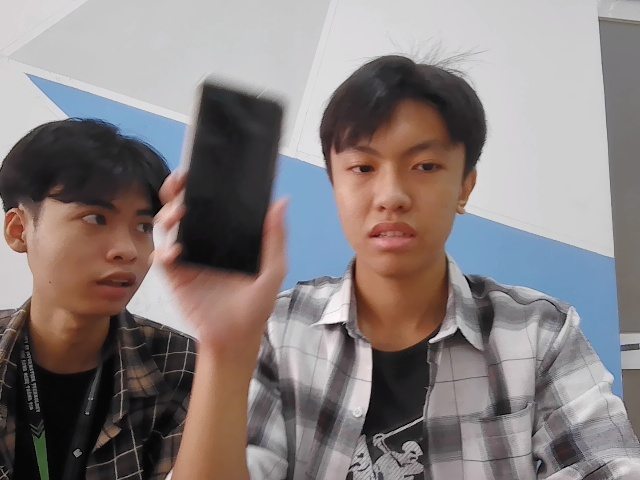human: (321, 46, 485, 280), (3, 116, 167, 320)
phone: (183, 72, 284, 293)
